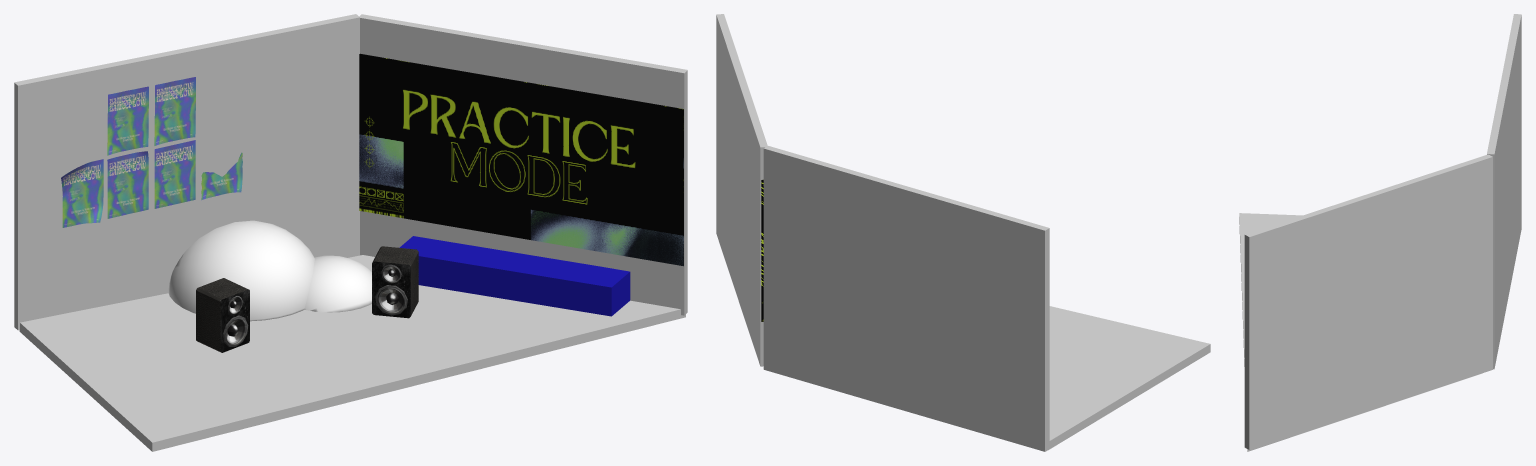
The model's file is practice.glb.
3 renders of one model, left to right at view 1: azimuth 30°, elevation 25°; view 2: azimuth 150°, elevation 25°; view 3: azimuth 270°, elevation 25°, orthographic. The views are drawn at different scales.
Parts seen in each view (by area): view 1: Cube.001_5, Cube.004_17, Cube_4, Cube.003_7, Cube.002_8, Sphere.004_14, polySurface11, Sphere.005_15, polySurface13, pPlane1, pPlane2, pPlane2_NoDrink_mat_0.001 (+3 smaller); view 2: Cube.001_5, Cube_4, Cube.003_7; view 3: Cube.003_7, Cube.001_5, Cube_4.
Boxes of the visible parts, x1,y1,x2,y2 form: Cube.001_5: (14,14,359,330); Cube.004_17: (359,53,683,266); Cube_4: (19,255,685,451); Cube.003_7: (359,14,687,315); Cube.002_8: (399,236,630,316); Sphere.004_14: (168,220,314,321); polySurface11: (196,278,249,352); Sphere.005_15: (304,255,371,312); polySurface13: (372,246,418,318); pPlane1: (154,140,195,208); pPlane2: (107,151,148,218); pPlane2_NoDrink_mat_0.001: (107,86,148,155); Cube.001_5: (763,146,1049,451); Cube_4: (1049,306,1210,449); Cube.003_7: (716,14,767,366); Cube.003_7: (1244,154,1492,449); Cube.001_5: (1487,14,1521,369); Cube_4: (1239,213,1482,451).
Bounding box in the file's own units: 6.4 × 2.79 × 3.29.
Materials: 9 (6 with a texture image).
